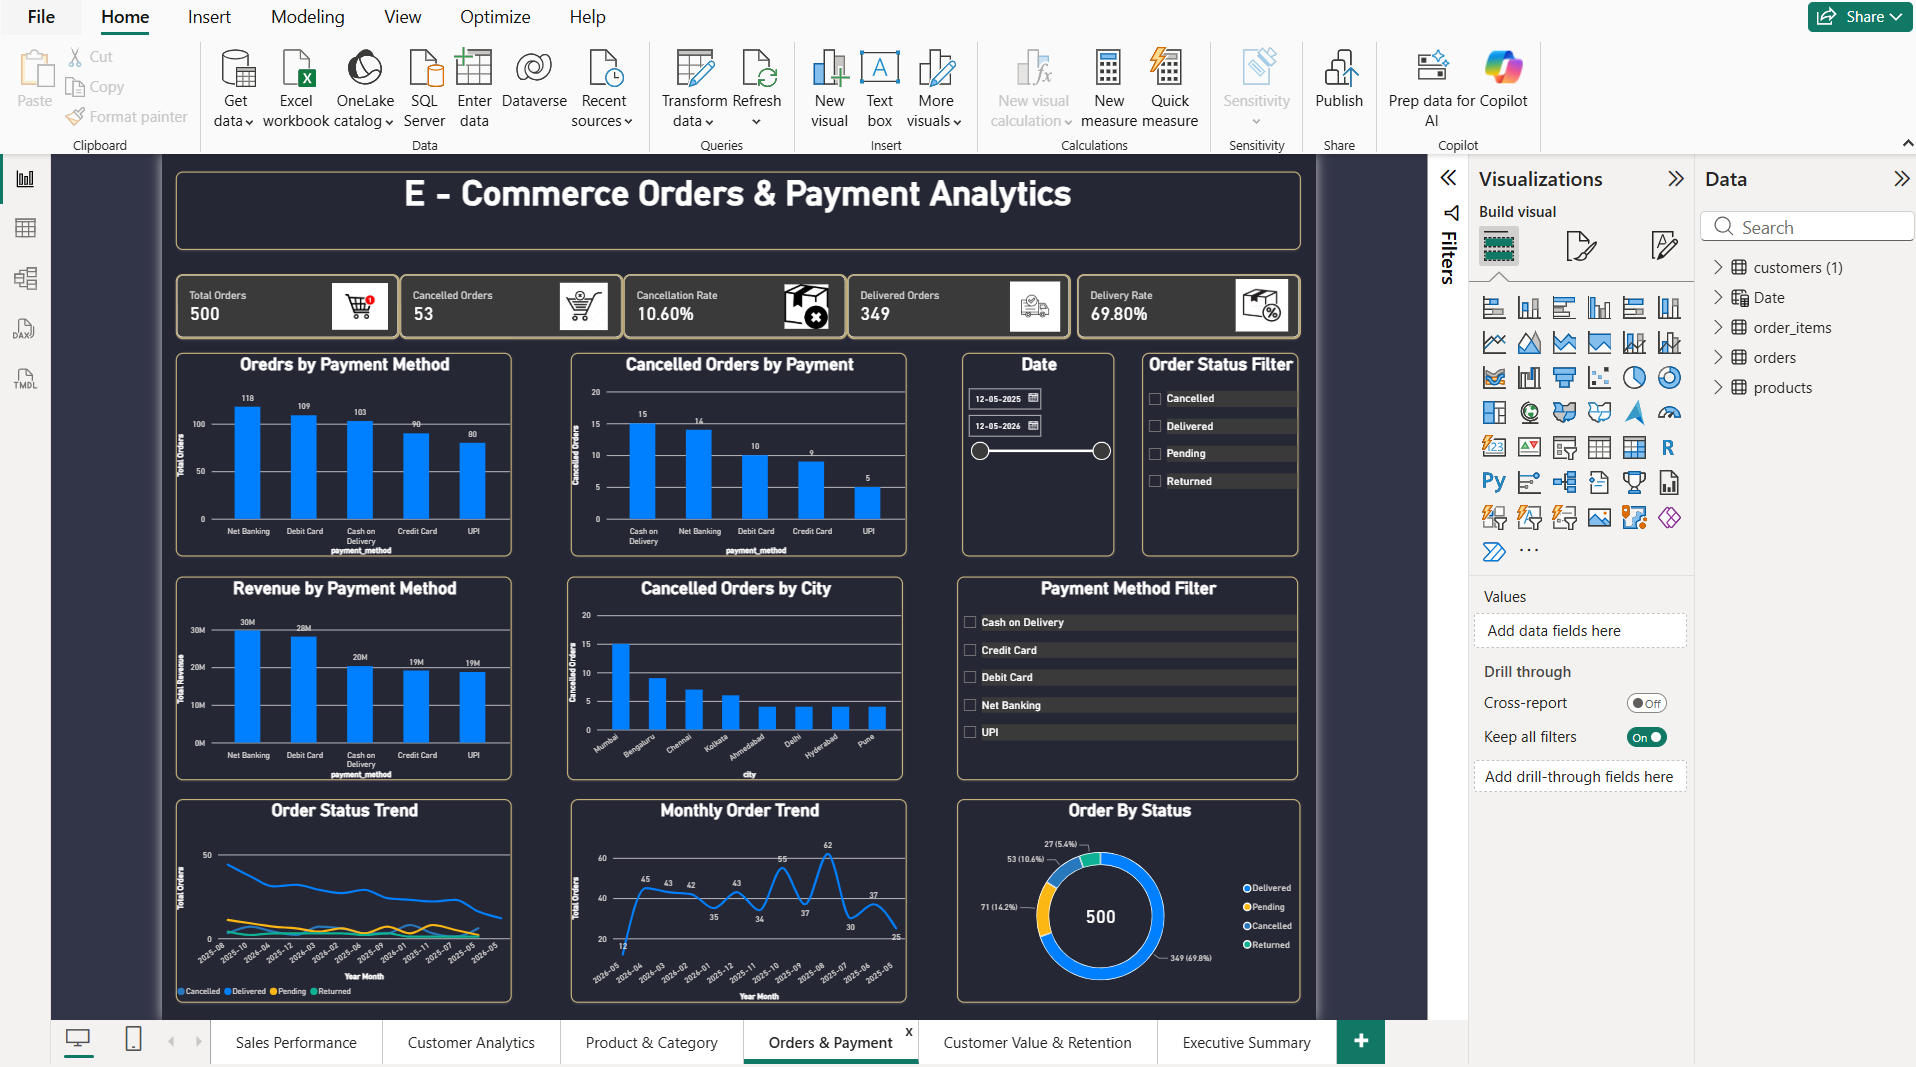

What the dashboard file says about the page in this screenshot:
{"tool":"powerbi","page":{"name":"Orders & Payment","canvas":[1600,1200],"ordinal":3},"visuals":[{"type":"textbox","box":[19.1,24.2,1558.9,109.1],"z":0},{"type":"cardVisual","fields":{"Data":["order_items.Total Orders"]},"box":[19.1,166.3,310,90.1],"z":1000},{"type":"cardVisual","fields":{"Data":["Date.Delivered Orders"]},"box":[949.2,166.3,310,90.1],"z":2000},{"type":"cardVisual","fields":{"Data":["Date.Cancelled Orders"]},"box":[329.1,166.3,310,90.1],"z":3000},{"type":"cardVisual","fields":{"Data":["Date.Cancellation Rate"]},"box":[639.1,166.3,310,90.1],"z":4000},{"type":"cardVisual","fields":{"Data":["Date.Delivery Rate"]},"box":[1267.9,166.3,310,90.1],"z":5000},{"type":"clusteredColumnChart","title":"Oredrs by Payment Method","fields":{"Category":["orders.payment_method"],"Y":["order_items.Total Orders"]},"box":[19.1,275.4,465.9,282.3],"z":6000},{"type":"clusteredColumnChart","title":"Revenue by Payment Method","fields":{"Category":["orders.payment_method"],"Y":["order_items.Total Revenue"]},"box":[19.1,585.5,465.9,282.3],"z":7000},{"type":"lineChart","title":"Monthly Order Trend","fields":{"Category":["Date.Year Month"],"Y":["order_items.Total Orders"]},"box":[566.4,893.8,465.9,282.3],"z":8000},{"type":"donutChart","title":"Order By Status","fields":{"Category":["orders.status"],"Y":["order_items.Total Orders"]},"box":[1101.6,893.8,476.3,282.3],"z":9000},{"type":"clusteredColumnChart","title":"Cancelled Orders by Payment","fields":{"Category":["orders.payment_method"],"Y":["Date.Cancelled Orders"]},"box":[566.4,275.4,465.9,282.3],"z":10000},{"type":"lineChart","title":"Order Status Trend","fields":{"Category":["Date.Year Month"],"Series":["orders.status"],"Y":["order_items.Total Orders"]},"box":[19.1,893.8,465.9,282.3],"z":11000},{"type":"clusteredColumnChart","title":"Cancelled Orders by City","fields":{"Category":["customers (1).city"],"Y":["Date.Cancelled Orders"]},"box":[561.2,585.5,465.9,282.3],"z":12000},{"type":"slicer","title":"Date","fields":{"Values":["Date.Date"]},"box":[1108.6,275.4,211.3,282.3],"z":13000},{"type":"slicer","title":"Payment Method Filter","fields":{"Values":["orders.payment_method"]},"box":[1101.6,585.5,472.9,282.3],"z":14000},{"type":"slicer","title":"Order Status Filter","fields":{"Values":["orders.status"]},"box":[1358,275.4,216.5,282.3],"z":15000},{"type":"image","box":[235.6,173.2,77.9,76.2],"z":16000},{"type":"image","box":[862.6,176.7,60.6,69.3],"z":17000},{"type":"image","box":[1172.6,176.7,74.5,69.3],"z":18000},{"type":"image","box":[1486.1,173.2,76.2,72.7],"z":19000},{"type":"image","box":[547.3,178.4,74.5,65.8],"z":20000}]}

Visuals, with their boxes on the page's 1600x1200 design canvas (x1, y1, x2, y2). These are canvas units, not pixel positions in the 1916x1067 screenshot, which may show the page scaled, cropped or inside an application window:
textbox: l=19, t=24, r=1578, b=133
cardVisual - order_items.Total Orders: l=19, t=166, r=329, b=256
cardVisual - Date.Delivered Orders: l=949, t=166, r=1259, b=256
cardVisual - Date.Cancelled Orders: l=329, t=166, r=639, b=256
cardVisual - Date.Cancellation Rate: l=639, t=166, r=949, b=256
cardVisual - Date.Delivery Rate: l=1268, t=166, r=1578, b=256
"Oredrs by Payment Method" clusteredColumnChart: l=19, t=275, r=485, b=558
"Revenue by Payment Method" clusteredColumnChart: l=19, t=586, r=485, b=868
"Monthly Order Trend" lineChart: l=566, t=894, r=1032, b=1176
"Order By Status" donutChart: l=1102, t=894, r=1578, b=1176
"Cancelled Orders by Payment" clusteredColumnChart: l=566, t=275, r=1032, b=558
"Order Status Trend" lineChart: l=19, t=894, r=485, b=1176
"Cancelled Orders by City" clusteredColumnChart: l=561, t=586, r=1027, b=868
"Date" slicer: l=1109, t=275, r=1320, b=558
"Payment Method Filter" slicer: l=1102, t=586, r=1574, b=868
"Order Status Filter" slicer: l=1358, t=275, r=1574, b=558
image: l=236, t=173, r=314, b=249
image: l=863, t=177, r=923, b=246
image: l=1173, t=177, r=1247, b=246
image: l=1486, t=173, r=1562, b=246
image: l=547, t=178, r=622, b=244
